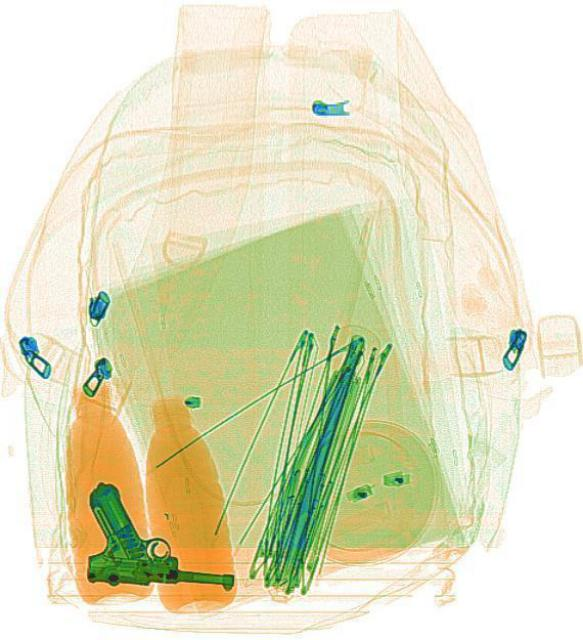Gun: (78, 480, 240, 594)
